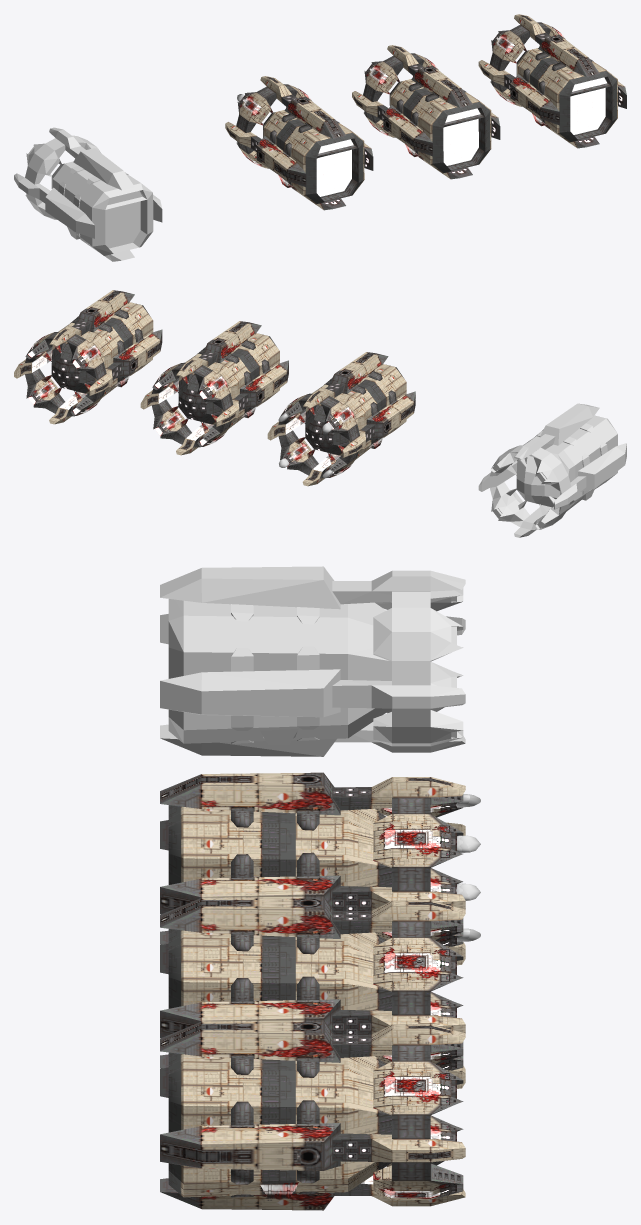
File: hgn_bst_prt_mothership.dae
The picture shows the model from 3 angles, top to bottom: view 1: azimuth 30°, elevation 25°; view 2: azimuth 150°, elevation 25°; view 3: azimuth 270°, elevation 25°; orthographic projection. The views are drawn at different scales.
Visible parts, largest first — view 1: COL[Root], MULT[Root]_LOD[1], MULT[Root]_LOD[0], MULT[Root]_LOD[2]; view 2: MULT[Root]_LOD[2], MULT[Root]_LOD[1], COL[Root], MULT[Root]_LOD[0]; view 3: COL[Root], MULT[Root]_LOD[2], MULT[Root]_LOD[1], MULT[Root]_LOD[0].
Boxes of the visible parts, <box> form: COL[Root]: <box>14,127,162,261</box>; MULT[Root]_LOD[1]: <box>352,45,500,179</box>; MULT[Root]_LOD[0]: <box>225,76,373,210</box>; MULT[Root]_LOD[2]: <box>478,14,626,148</box>; MULT[Root]_LOD[2]: <box>14,290,162,424</box>; MULT[Root]_LOD[1]: <box>140,321,288,455</box>; COL[Root]: <box>478,403,626,537</box>; MULT[Root]_LOD[0]: <box>267,352,415,486</box>; COL[Root]: <box>160,566,465,756</box>; MULT[Root]_LOD[2]: <box>160,1020,465,1210</box>; MULT[Root]_LOD[1]: <box>160,896,465,1073</box>; MULT[Root]_LOD[0]: <box>160,772,465,949</box>.
Size of what is drawn, in the model's own units: 5083 by 782 by 1287.
Materials: 13 (13 with a texture image).
